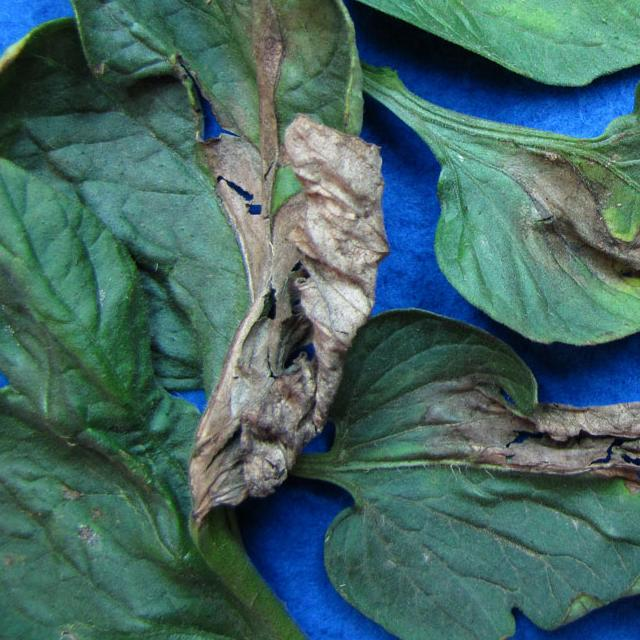Tomato leaf late blight: (0, 0, 393, 442), (253, 302, 640, 640), (385, 65, 640, 345), (249, 0, 640, 80)
